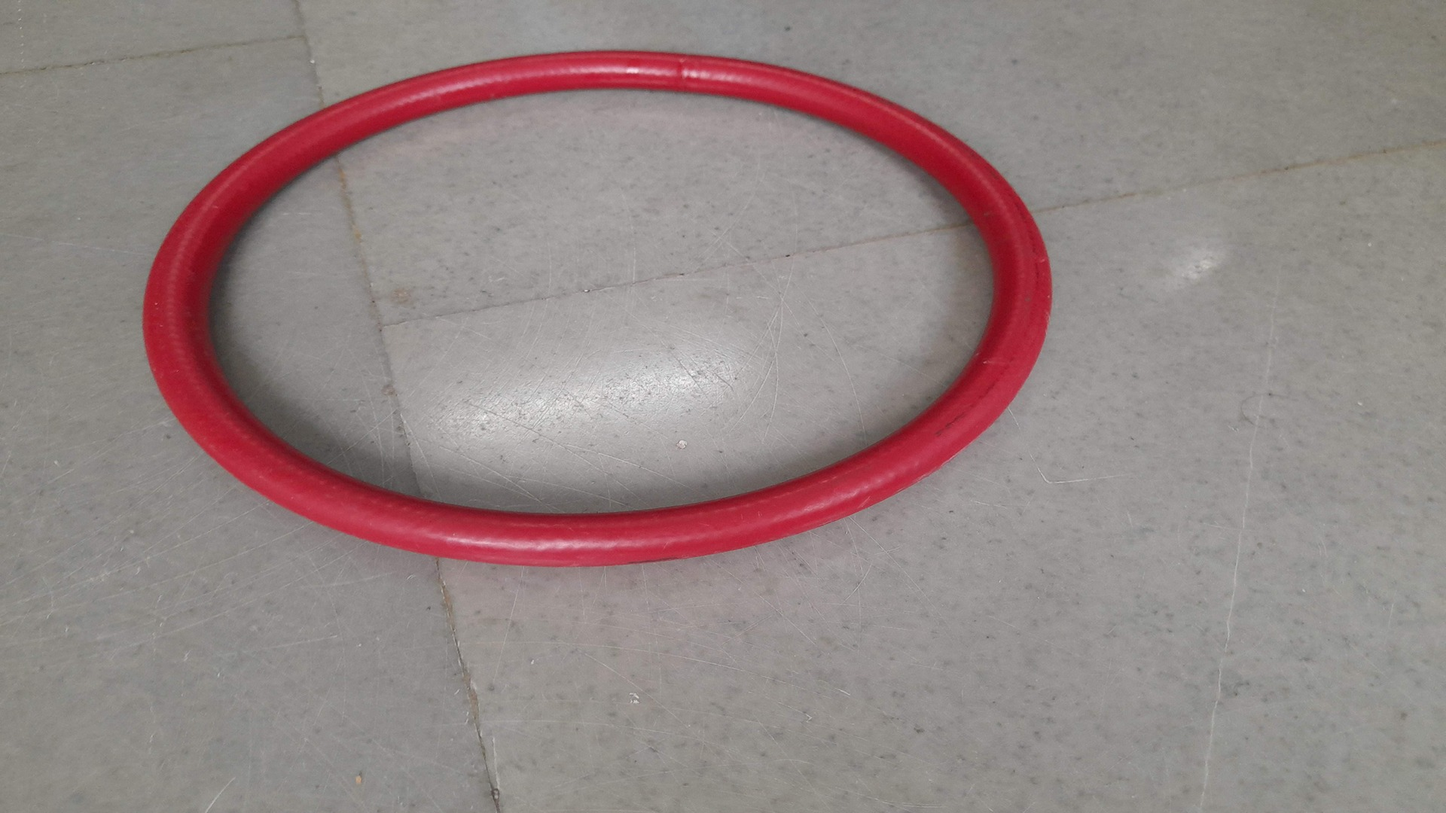Red ring: (144, 49, 1055, 569)
